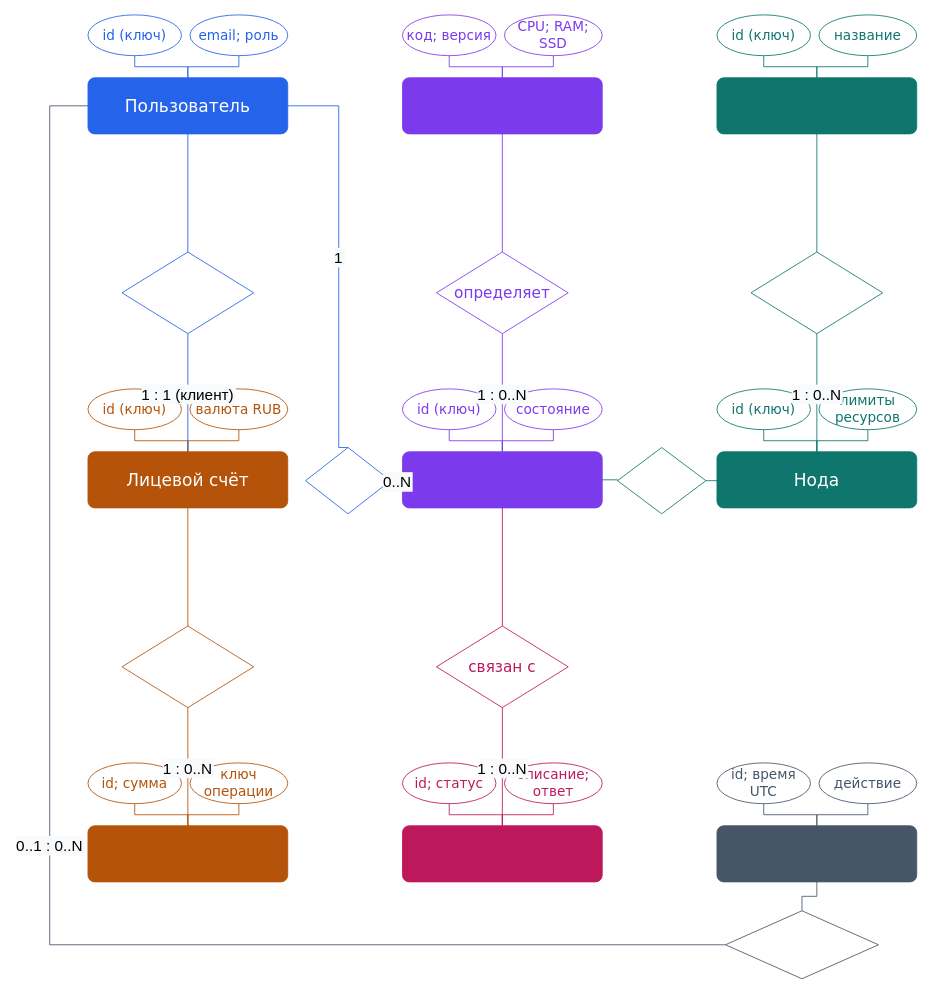
Image size: 932x994. Some labels were removed from this diagram. Each missing label, with the centre of its shape:
VPS: the point at 502,479
арендует: the point at 348,480
Версия тарифа: the point at 502,105
включает: the point at 816,292
владеет: the point at 187,292
Дата-центр: the point at 816,105
инициирует: the point at 801,944
Обращение: the point at 502,853
Проводка: the point at 187,853
размещён: the point at 661,480
Событие аудита: the point at 816,853
содержит: the point at 187,666
